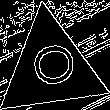O_W: (24, 43, 77, 93)
